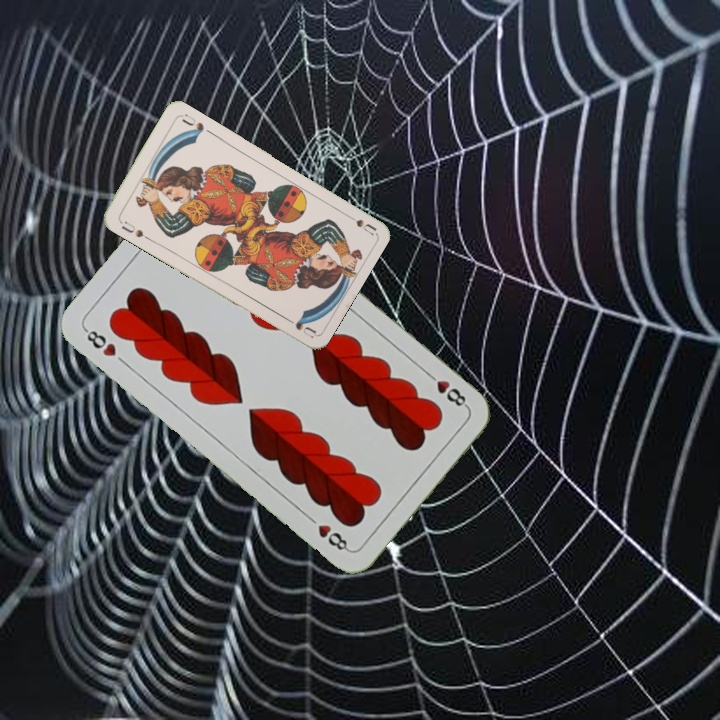H8: (422, 368, 471, 411), (80, 324, 119, 360)
SU: (339, 209, 378, 237), (115, 216, 152, 242)
